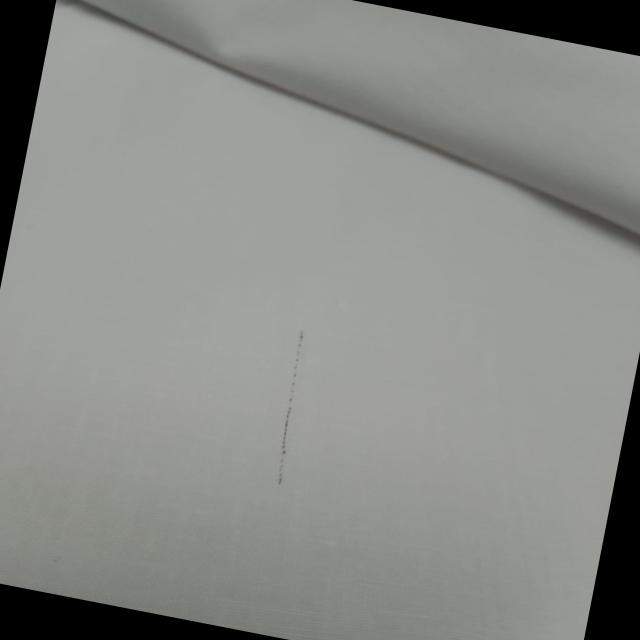contamination: (252, 312, 338, 504)
